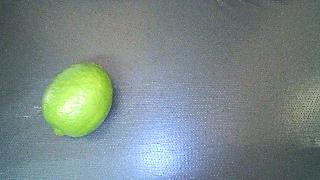EXPORTACION: (42, 62, 113, 137)
